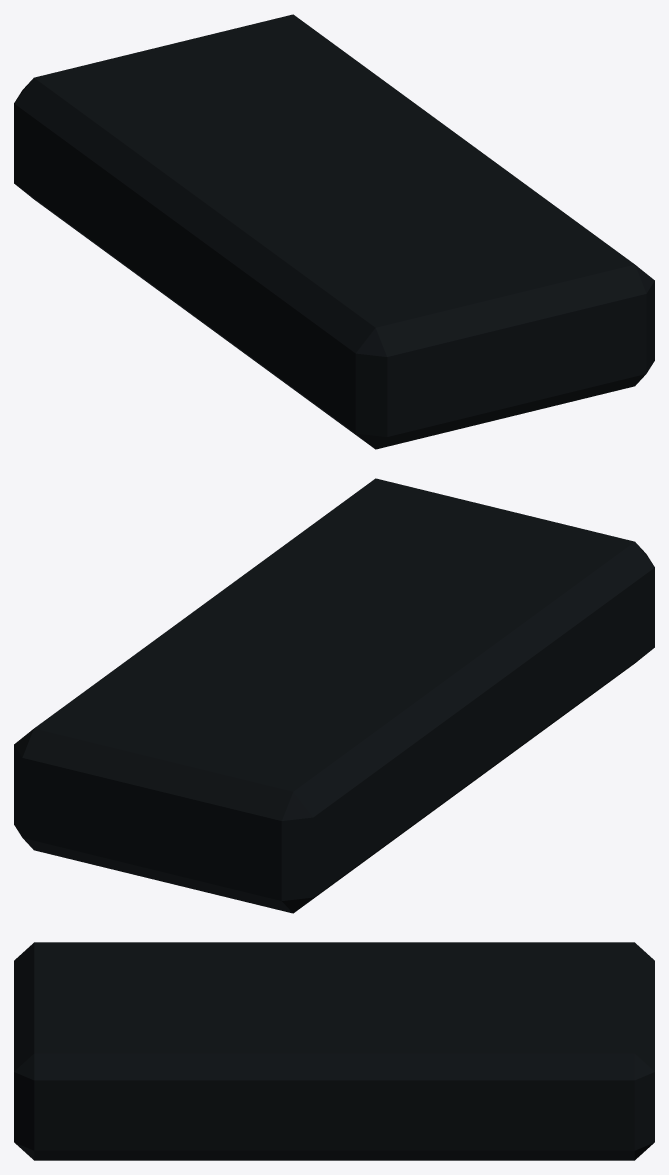
File: PylonLight__Mount.obj
3 views of the same model, one above another, from view 1: azimuth 30°, elevation 25°; view 2: azimuth 150°, elevation 25°; view 3: azimuth 270°, elevation 25° (orthographic). The views are drawn at different scales.
Visible parts, largest first — view 1: Mount_lug; view 2: Mount_lug; view 3: Mount_lug.
Boxes of the visible parts, x1,y1,x2,y2 form: Mount_lug: (14, 14, 654, 449); Mount_lug: (14, 478, 654, 913); Mount_lug: (14, 942, 654, 1160).
Size of the model in its own units: 0.18 by 0.07 by 0.38.
